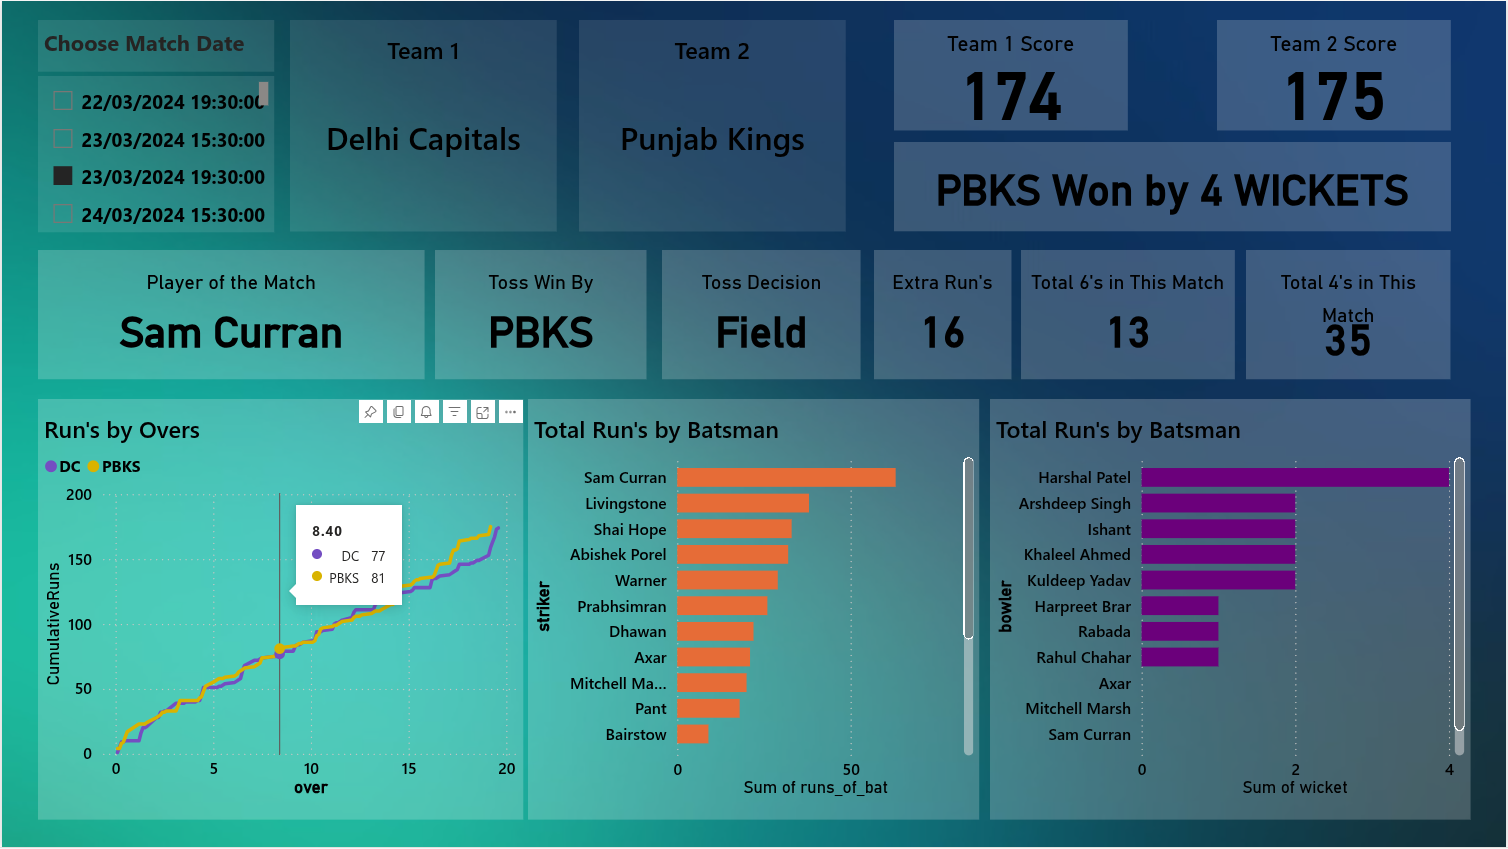

The page's visual inventory and layout, read from the dashboard file:
{"tool":"powerbi","page":{"name":"Match Analysis","canvas":[1280,720],"ordinal":7},"visuals":[{"type":"card","title":"Team 1","fields":{"Values":["Min(ipl2024 Matches(AutoRecovered).team1)"]},"box":[245.4,16,227,180.4],"z":0},{"type":"card","title":"Team 2","fields":{"Values":["Min(ipl2024 Matches(AutoRecovered).team2)"]},"box":[490.8,16,227,180.4],"z":1000},{"type":"slicer","fields":{"Values":["ipl_2024_deliveries.Match_TimeStamp"]},"box":[30.7,63.8,201.2,132.5],"z":2000},{"type":"textbox","box":[30.7,16,201.2,44.2],"z":3000},{"type":"card","title":"Team 1 Score","fields":{"Values":["ipl_2024_deliveries.Team1_Score"]},"box":[759.5,16,198.8,94.5],"z":4000},{"type":"card","title":"Team 2 Score","fields":{"Values":["ipl_2024_deliveries.Team2_Score"]},"box":[1034.4,16,198.8,94.5],"z":5000},{"type":"card","fields":{"Values":["Min(ipl2024 Matches(AutoRecovered).Winner_Team)"]},"box":[759.5,120.2,473.6,76.1],"z":6000},{"type":"lineChart","title":"Run''s by Overs","fields":{"Category":["ipl_2024_deliveries.over"],"Y":["ipl_2024_deliveries.CumulativeRuns"],"Series":["ipl_2024_deliveries.batting_team"]},"box":[30.7,338.7,413.5,358.3],"z":7000},{"type":"barChart","title":"Total Run''s by Batsman","fields":{"Y":["Sum(ipl_2024_deliveries.runs_of_bat)"],"Category":["ipl_2024_deliveries.striker"]},"box":[447.9,338.7,384.1,358.3],"z":8000},{"type":"barChart","title":"Total Run''s by Batsman","fields":{"Y":["Sum(ipl_2024_deliveries.wicket)"],"Category":["ipl_2024_deliveries.bowler"]},"box":[840.5,338.7,408.6,358.3],"z":9000},{"type":"card","title":"Player of the Match","fields":{"Values":["Min(ipl2024 Matches(AutoRecovered).player_of_the_match)"]},"box":[30.7,212.3,328.8,110.4],"z":10000},{"type":"card","title":"Extra Run''s","fields":{"Values":["Sum(ipl_2024_deliveries.extras)"]},"box":[742.3,212.3,116.6,110.4],"z":11000},{"type":"card","title":"Total 6''s in This Match","fields":{"Values":["ipl_2024_deliveries.Total_6's"]},"box":[867.5,212.3,181.6,110.4],"z":12000},{"type":"card","title":"Total 4''s in This Match","fields":{"Values":["ipl_2024_deliveries.Total_4's"]},"box":[1058.9,212.3,174.2,110.4],"z":13000},{"type":"card","title":"Toss Win By","fields":{"Values":["Min(ipl2024 Matches(AutoRecovered).toss_winner)"]},"box":[368.1,212.3,180.4,110.4],"z":14000},{"type":"card","title":"Toss Decision","fields":{"Values":["Min(ipl2024 Matches(AutoRecovered).decision)"]},"box":[562,212.3,169.3,110.4],"z":15000}]}

Visuals, with their boxes in screenshot pixels (x1, y1, x2, y2), scaled from the page's 1280x720 canvas onto the 1508x849 screenshot:
"Team 1" card: select_region(289, 19, 557, 232)
"Team 2" card: select_region(578, 19, 846, 232)
slicer - ipl_2024_deliveries.Match_TimeStamp: select_region(36, 75, 273, 231)
textbox: select_region(36, 19, 273, 71)
"Team 1 Score" card: select_region(895, 19, 1129, 130)
"Team 2 Score" card: select_region(1219, 19, 1453, 130)
card - Min(ipl2024 Matches(AutoRecovered).Winner_Team): select_region(895, 142, 1453, 231)
"Run''s by Overs" lineChart: select_region(36, 399, 523, 822)
"Total Run''s by Batsman" barChart: select_region(528, 399, 980, 822)
"Total Run''s by Batsman" barChart: select_region(990, 399, 1472, 822)
"Player of the Match" card: select_region(36, 250, 424, 381)
"Extra Run''s" card: select_region(875, 250, 1012, 381)
"Total 6''s in This Match" card: select_region(1022, 250, 1236, 381)
"Total 4''s in This Match" card: select_region(1248, 250, 1453, 381)
"Toss Win By" card: select_region(434, 250, 646, 381)
"Toss Decision" card: select_region(662, 250, 862, 381)
